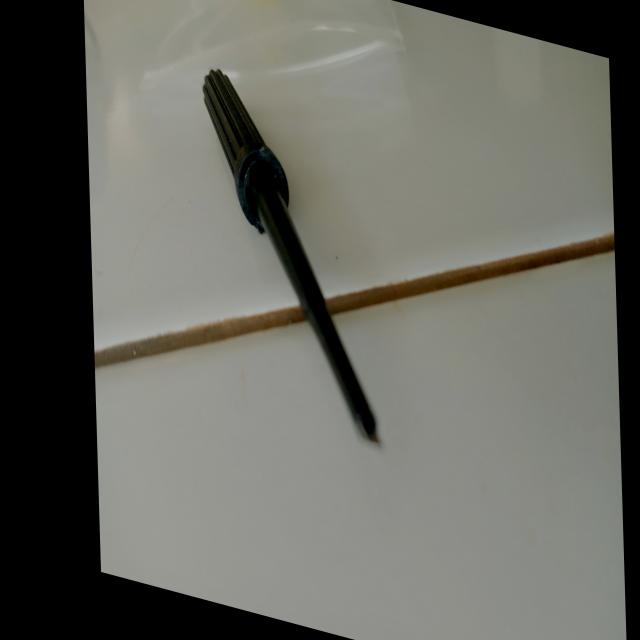Screw Driver: (195, 32, 393, 458)
